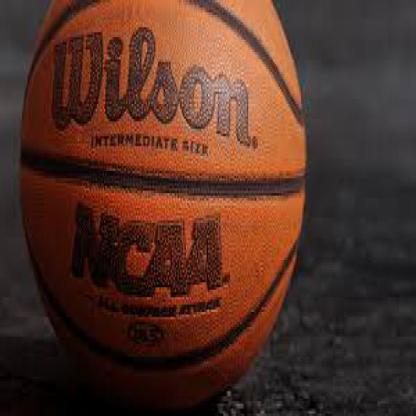basketball: (19, 0, 305, 409)
